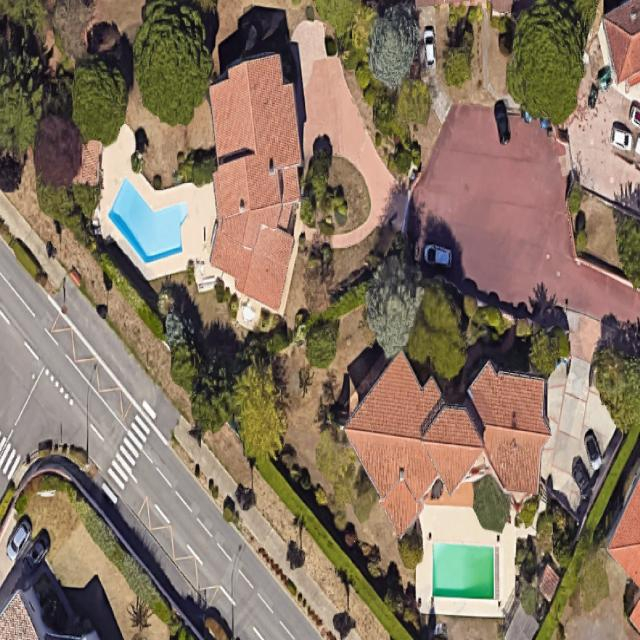maison: (327, 313, 576, 542), (210, 54, 302, 311), (608, 476, 639, 588), (603, 0, 639, 90), (631, 600, 639, 628)
